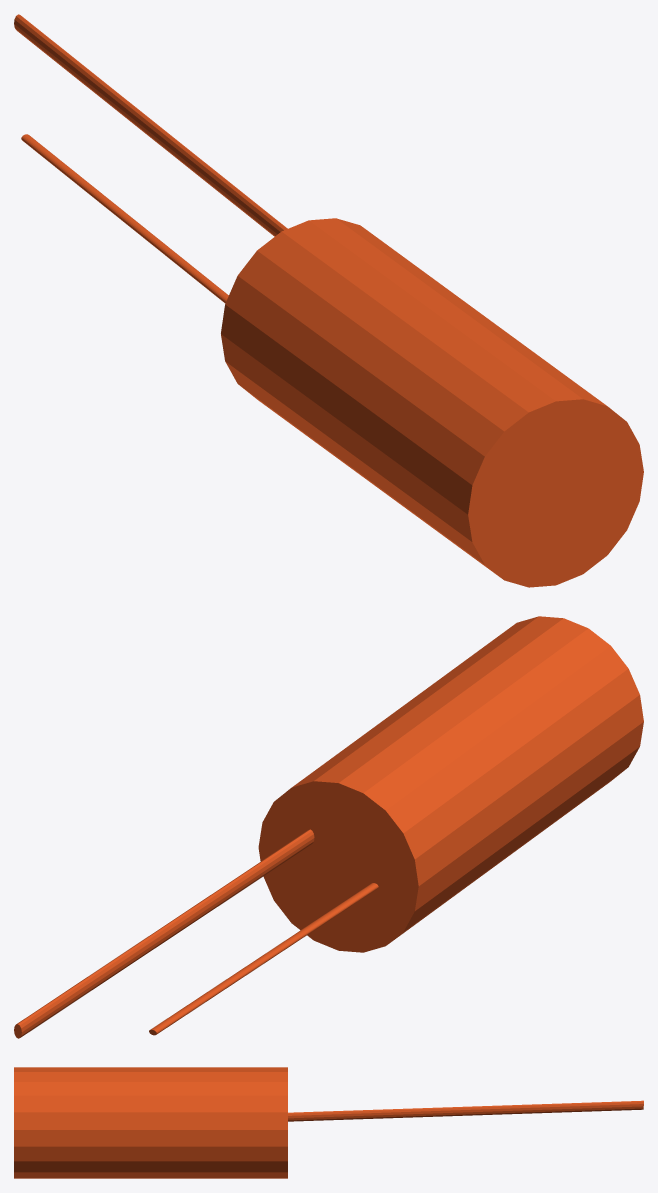
File: tinker.obj
3 renders of one model, top to bottom at view 1: azimuth 30°, elevation 25°; view 2: azimuth 150°, elevation 25°; view 3: azimuth 270°, elevation 25°, orthographic. The views are drawn at different scales.
Visible parts, largest first — view 1: obj_0; view 2: obj_0; view 3: obj_0.
Part boxes in pixels (x1,y1,x2,y2): obj_0: (14,14,643,587); obj_0: (14,616,643,1038); obj_0: (14,1067,643,1178).
Bounding box in the file's own units: 20 × 20 × 112.
